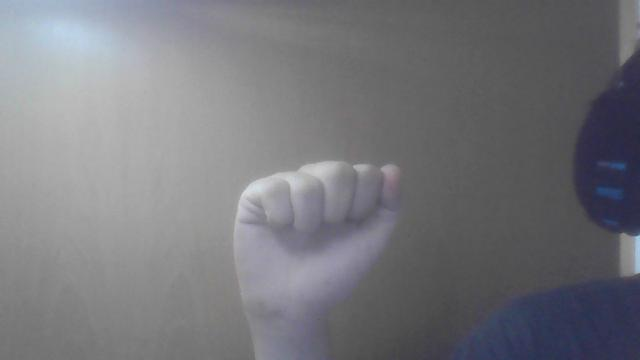forward: (232, 160, 404, 358)
